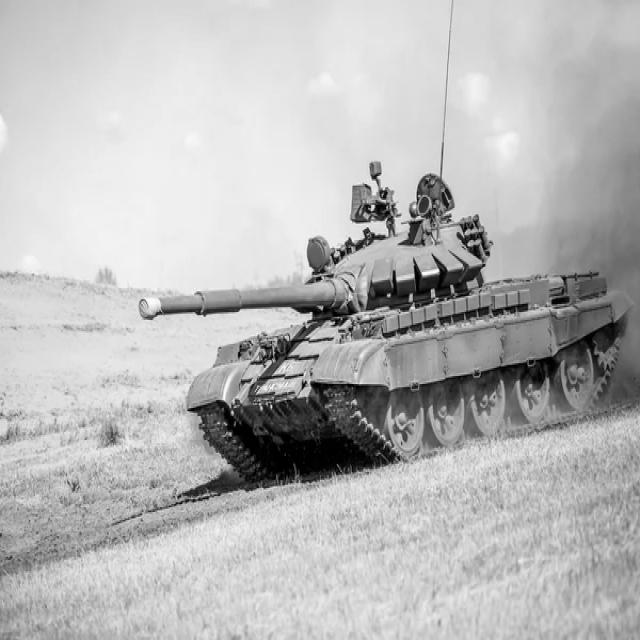Tank: (138, 163, 632, 500)
